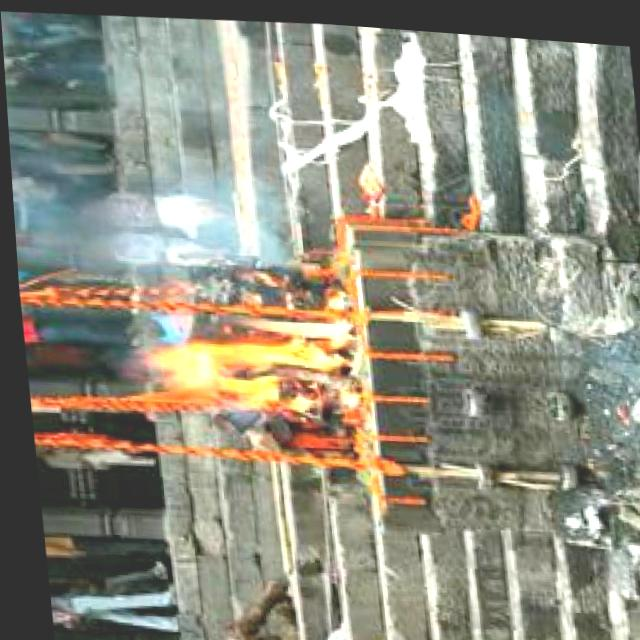Fire: (130, 297, 357, 420)
